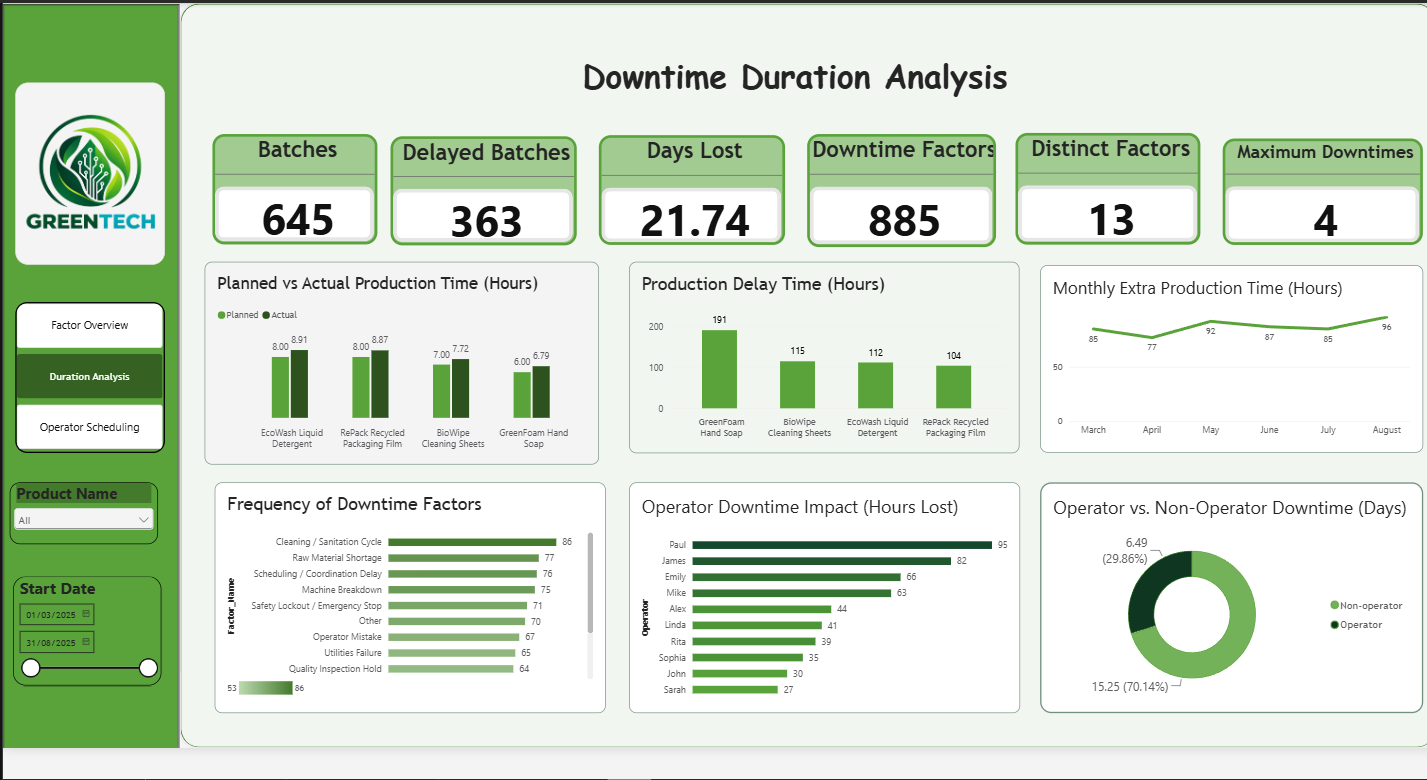

The dashboard page shown, as its layout file describes it:
{"tool":"powerbi","page":{"name":"Duration Analysis","canvas":[1924,1000],"ordinal":1},"visuals":[{"type":"shape","box":[238.2,0,1686.4,1000.6],"z":0},{"type":"textbox","box":[472.6,65.5,1397.5,74.9],"z":1000},{"type":"cardVisual","title":"Delayed Batches","fields":{"Data":["Count(downtimes.Batch_ID)"]},"box":[520.8,178.7,250,146.1],"z":2000},{"type":"shape","box":[0,1.7,236.3,999.7],"z":3000},{"type":"cardVisual","title":"Batches","fields":{"Data":["CountNonNull(batch_pd.Batch_ID)"]},"box":[280.8,175.3,221.2,148.1],"z":4000},{"type":"cardVisual","title":"Days Lost","fields":{"Data":["Sum(downtimes.Days)"]},"box":[799.8,176.8,250,147.6],"z":5000},{"type":"cardVisual","title":"Downtime  Factors","fields":{"Data":["CountNonNull(downtimes.Batch_ID)"]},"box":[1078.9,175.3,253.6,151.5],"z":6000},{"type":"cardVisual","title":"Distinct Factors","fields":{"Data":["Count(downtimes.Factor_ID)"]},"box":[1358.9,174.5,248.4,149.9],"z":7000},{"type":"cardVisual","title":"Maximum  Downtimes","fields":{"Data":["downtimes.Max Downtime Per Batch"]},"box":[1637.1,182.1,268.9,142.9],"z":8000},{"type":"clusteredColumnChart","title":"Planned vs Actual Production Time (Hours)","fields":{"Category":["products.Category Hierarchy.Product_Name"],"Y":["Avg(batch_pd.Planned_Min_Batch_Hours)","Avg(batch_pd.Actual_Duration)"]},"box":[270.6,347.2,529.2,272.3],"z":9000},{"type":"columnChart","title":"Production Delay Time (Hours)","fields":{"Category":["products.Product_Name"],"Y":["Sum(downtimes.Hour)"]},"box":[840.7,347.2,523.7,256.7],"z":10000},{"type":"lineChart","title":"Monthly Extra Production Time (Hours)","fields":{"Category":["batch_pd.Start_Date.Variation.Date Hierarchy.Month"],"Y":["Sum(batch_pd.Extra_Time_Hour)"]},"box":[1392,352.3,513.9,251.9],"z":11000},{"type":"barChart","title":"Frequency of Downtime Factors","fields":{"Category":["downtime_factors.Factor_Name"],"Y":["CountNonNull(downtimes.Factor_ID)"]},"box":[284.2,643.3,525.4,309.4],"z":12000},{"type":"barChart","title":"Operator Downtime Impact (Hours Lost)","fields":{"Category":["batch_pd.Operator"],"Y":["Sum(batch_pd.Extra_Time_Hour)"]},"box":[840.7,643.3,525.4,309.4],"z":13000},{"type":"donutChart","title":"Operator vs. Non-Operator Downtime (Days)","fields":{"Category":["downtime_factors.Error Source"],"Y":["Sum(downtimes.Days)"]},"box":[1392,643.3,513.9,309.7],"z":14000},{"type":"slicer","fields":{"Values":["products.Product_Name"]},"box":[8.5,643.3,199.1,83.4],"z":15000},{"type":"slicer","title":"Start Date","fields":{"Values":["batch_pd.Start_Date"]},"box":[13.6,769.2,199.1,146.3],"z":16000},{"type":"image","box":[17,107.2,200.8,245.1],"z":17000},{"type":"pageNavigator","box":[17,401.6,200.8,202.5],"z":17001}]}

Visuals, with their boxes on the page's 1924x1000 design canvas (x1, y1, x2, y2). These are canvas units, not pixel positions in the 1427x780 screenshot, which may show the page scaled, cropped or inside an application window:
shape: <bbox>238, 0, 1925, 1001</bbox>
textbox: <bbox>473, 66, 1870, 140</bbox>
"Delayed Batches" cardVisual: <bbox>521, 179, 771, 325</bbox>
shape: <bbox>0, 2, 236, 1001</bbox>
"Batches" cardVisual: <bbox>281, 175, 502, 323</bbox>
"Days Lost" cardVisual: <bbox>800, 177, 1050, 324</bbox>
"Downtime  Factors" cardVisual: <bbox>1079, 175, 1332, 327</bbox>
"Distinct Factors" cardVisual: <bbox>1359, 174, 1607, 324</bbox>
"Maximum  Downtimes" cardVisual: <bbox>1637, 182, 1906, 325</bbox>
"Planned vs Actual Production Time (Hours)" clusteredColumnChart: <bbox>271, 347, 800, 620</bbox>
"Production Delay Time (Hours)" columnChart: <bbox>841, 347, 1364, 604</bbox>
"Monthly Extra Production Time (Hours)" lineChart: <bbox>1392, 352, 1906, 604</bbox>
"Frequency of Downtime Factors" barChart: <bbox>284, 643, 810, 953</bbox>
"Operator Downtime Impact (Hours Lost)" barChart: <bbox>841, 643, 1366, 953</bbox>
"Operator vs. Non-Operator Downtime (Days)" donutChart: <bbox>1392, 643, 1906, 953</bbox>
slicer - products.Product_Name: <bbox>8, 643, 208, 727</bbox>
"Start Date" slicer: <bbox>14, 769, 213, 916</bbox>
image: <bbox>17, 107, 218, 352</bbox>
pageNavigator: <bbox>17, 402, 218, 604</bbox>
